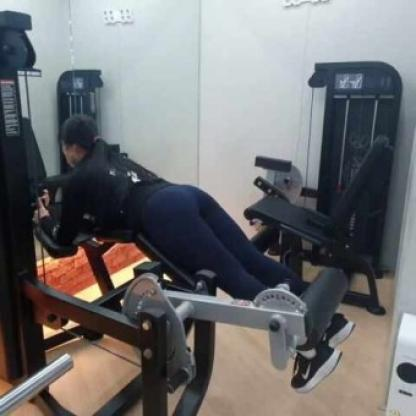reg curl machine: (0, 8, 355, 416)
